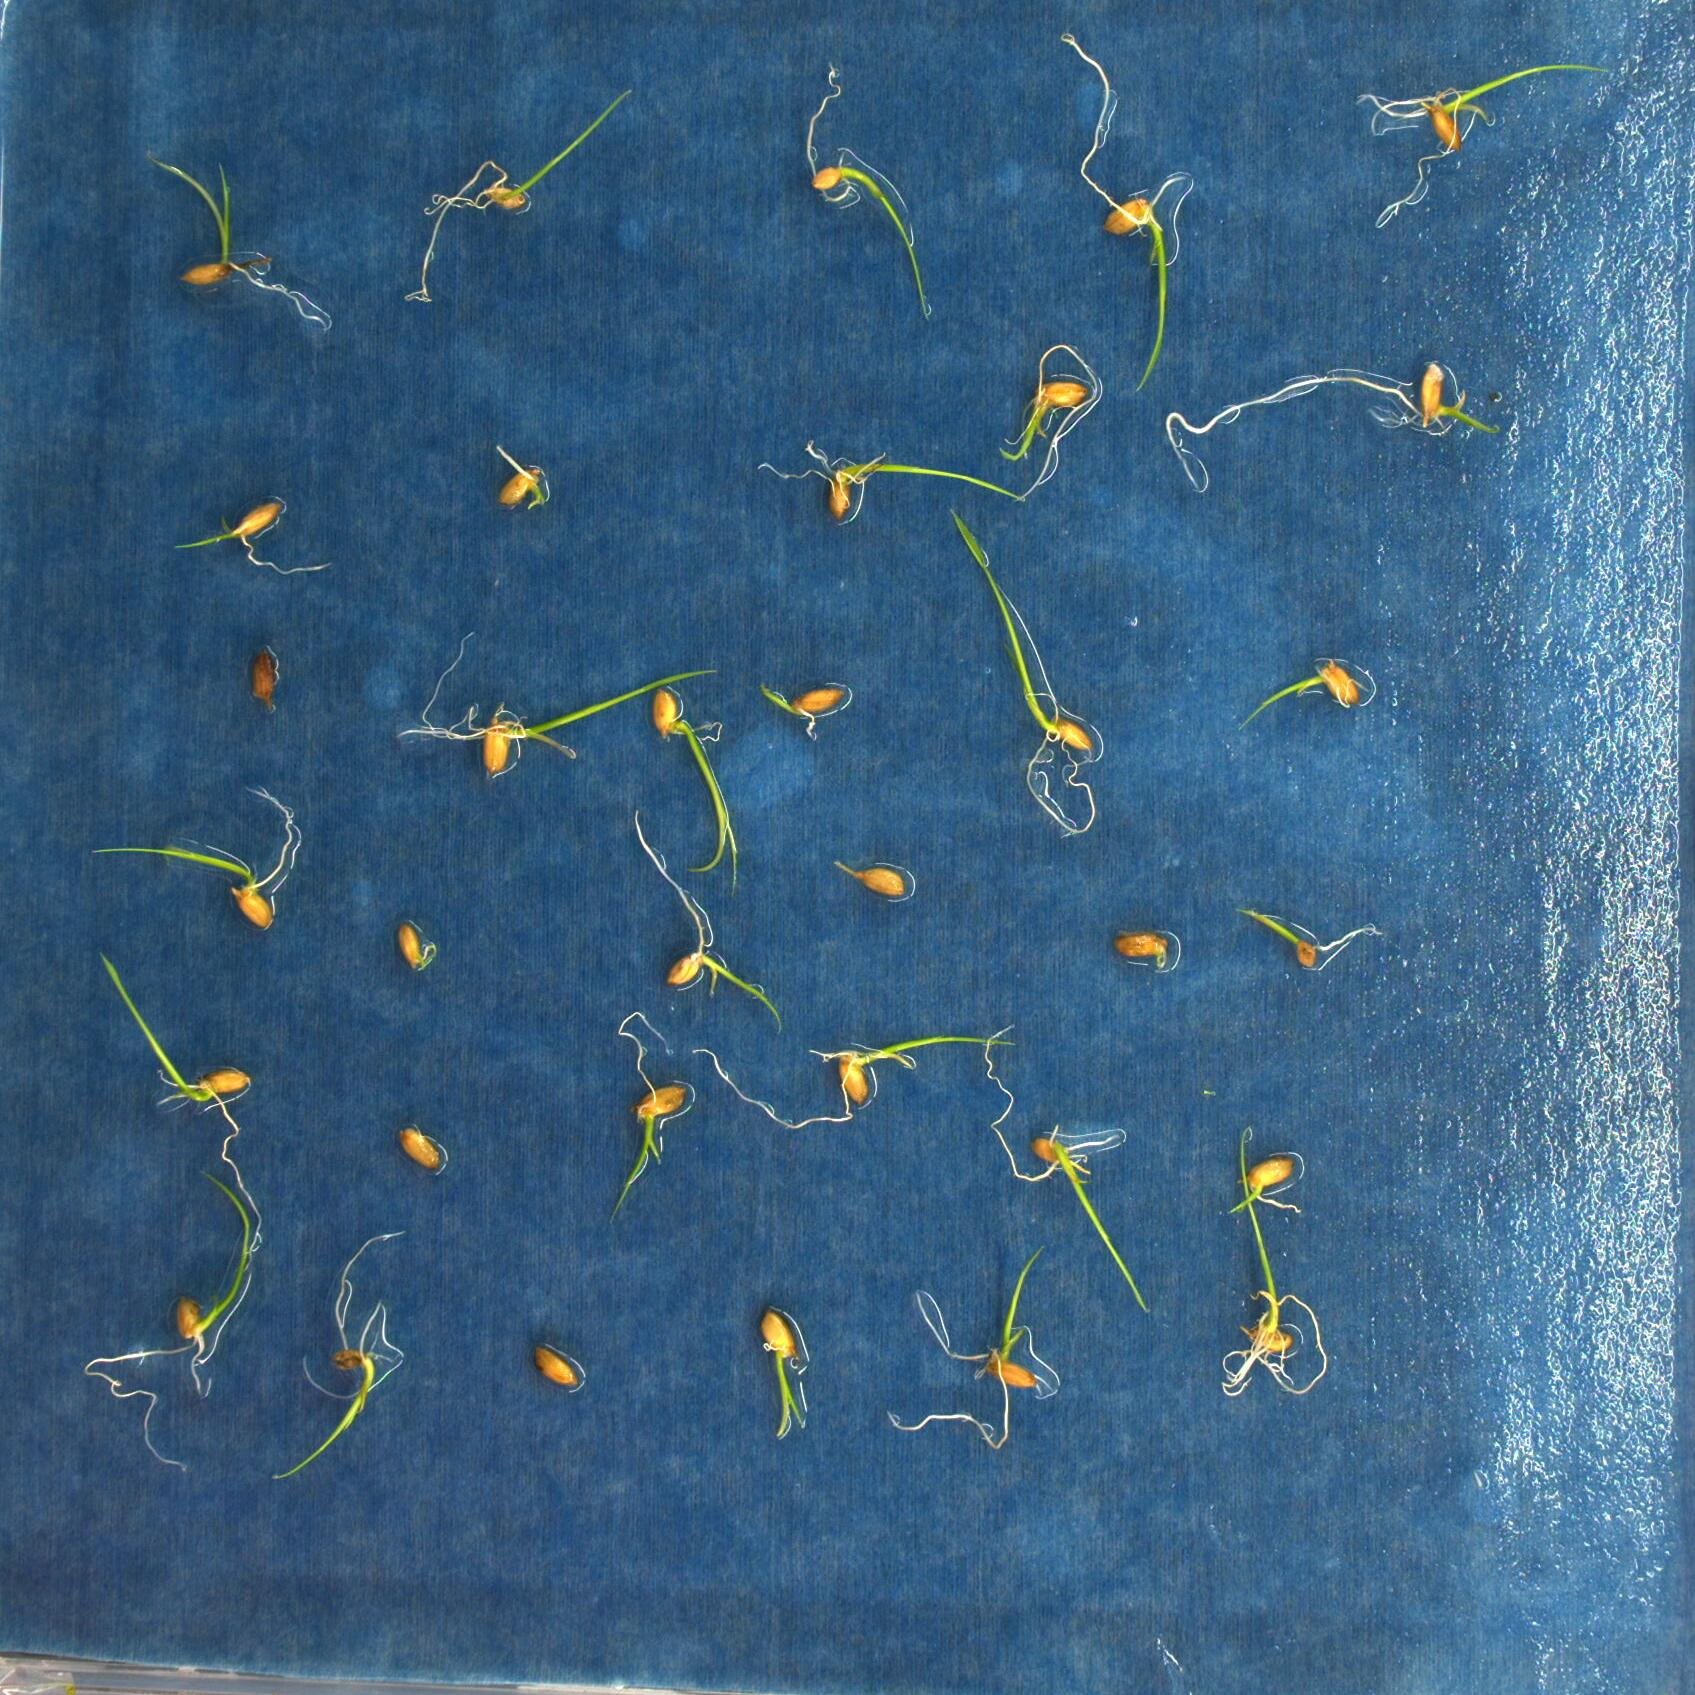not sprout: (768, 680, 857, 744), (391, 1114, 455, 1177), (835, 854, 913, 900), (526, 1335, 579, 1399), (244, 641, 290, 712), (386, 914, 438, 972), (1107, 916, 1169, 958)
sprout: (933, 498, 1133, 854), (1166, 335, 1510, 501), (1048, 29, 1201, 390), (98, 945, 265, 1270), (979, 1010, 1152, 1309), (92, 1183, 262, 1475), (396, 627, 716, 781), (407, 90, 633, 303), (1357, 57, 1610, 231), (886, 1239, 1073, 1451), (781, 61, 927, 312), (295, 1229, 424, 1499), (147, 151, 326, 340), (1180, 1128, 1305, 1394), (109, 789, 315, 936), (719, 1023, 990, 1135), (757, 445, 1052, 532), (636, 681, 757, 883), (593, 1012, 705, 1223), (638, 827, 754, 1004), (1007, 348, 1118, 508), (168, 494, 345, 585), (1217, 886, 1392, 976), (737, 1293, 826, 1453), (1246, 660, 1371, 725), (1212, 1153, 1309, 1222), (477, 441, 563, 515)
